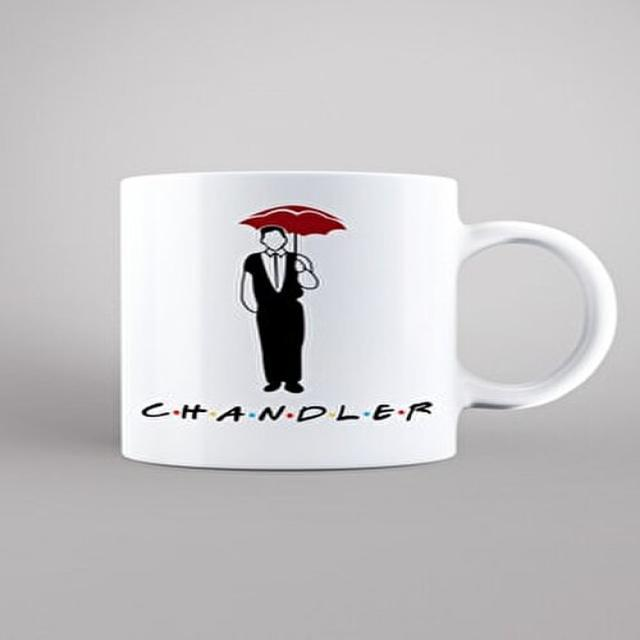Coffee Mug: (118, 170, 620, 474)
